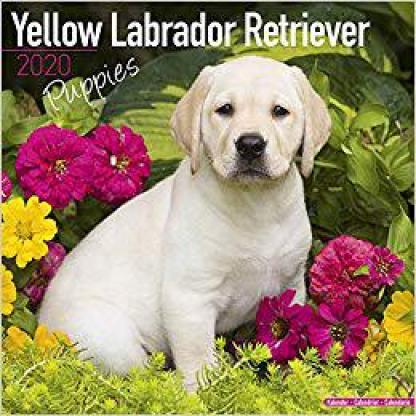dog: (39, 57, 332, 385)
